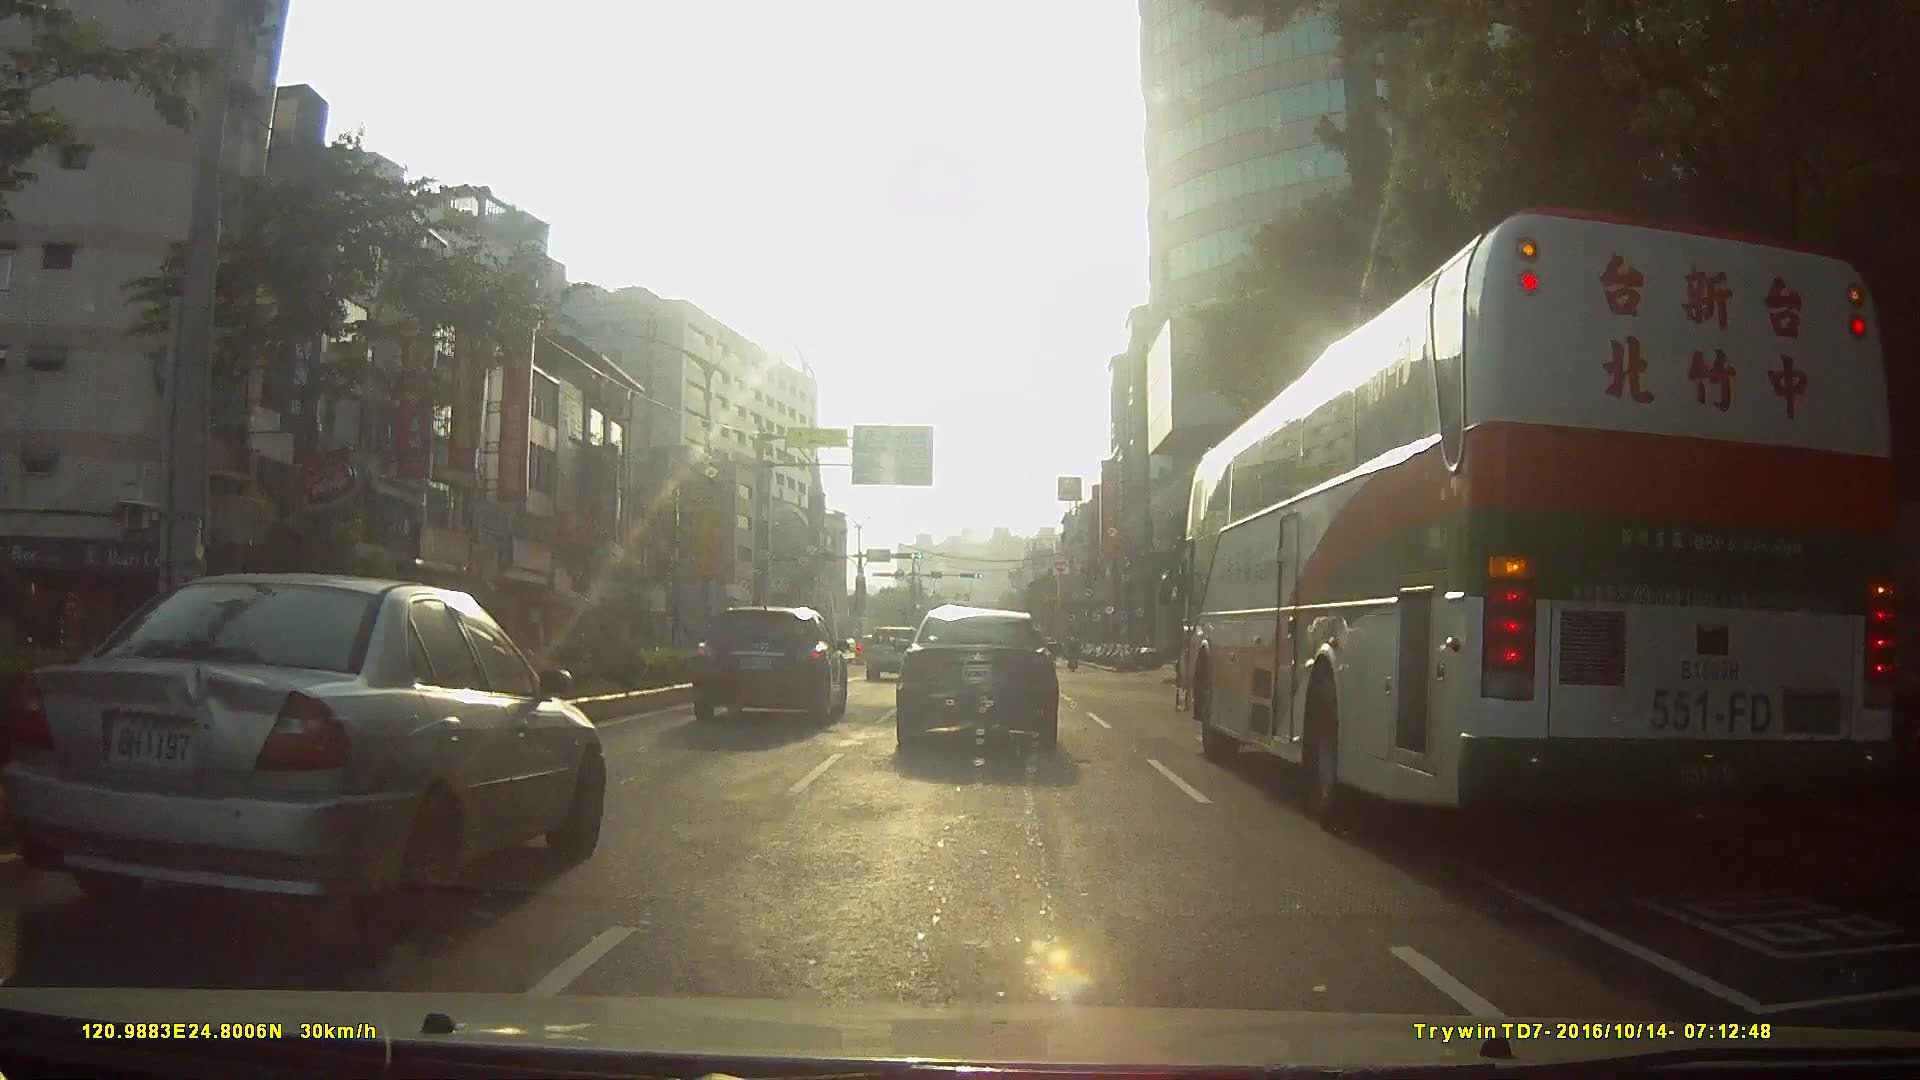vehicle: (1185, 158, 1920, 852), (0, 567, 604, 942), (891, 603, 1059, 752), (692, 603, 849, 720), (861, 622, 922, 680)
